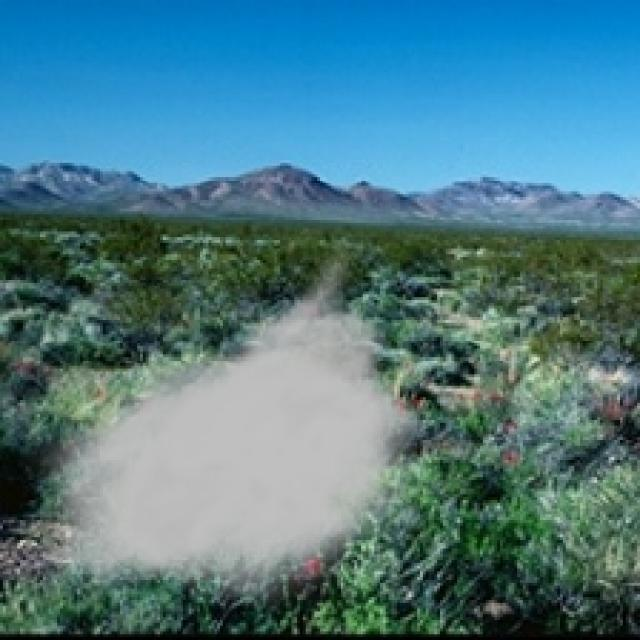Smoke: (20, 234, 437, 609)
